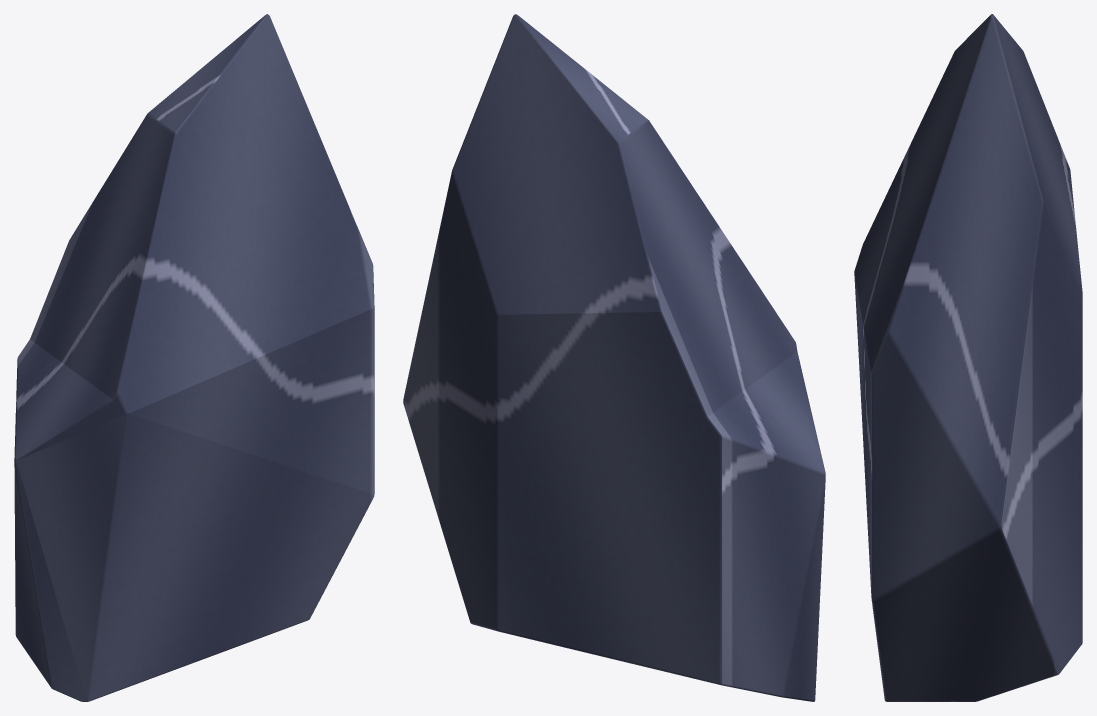
Rendered from obsidian_shard.obj.
3 renders of one model, left to right at view 1: azimuth 30°, elevation 25°; view 2: azimuth 150°, elevation 25°; view 3: azimuth 270°, elevation 25°, orthographic. The views are drawn at different scales.
Visible parts, largest first — view 1: A_ShadowHull.001_obsidian_shard_obsidian; view 2: A_ShadowHull.001_obsidian_shard_obsidian; view 3: A_ShadowHull.001_obsidian_shard_obsidian.
Part boxes in pixels (x1=…): A_ShadowHull.001_obsidian_shard_obsidian: x1=14, y1=14, x2=374, y2=701; A_ShadowHull.001_obsidian_shard_obsidian: x1=403, y1=14, x2=825, y2=701; A_ShadowHull.001_obsidian_shard_obsidian: x1=854, y1=14, x2=1082, y2=701.
Bounding box in the file's own units: 1.19 × 1.85 × 0.5295.
